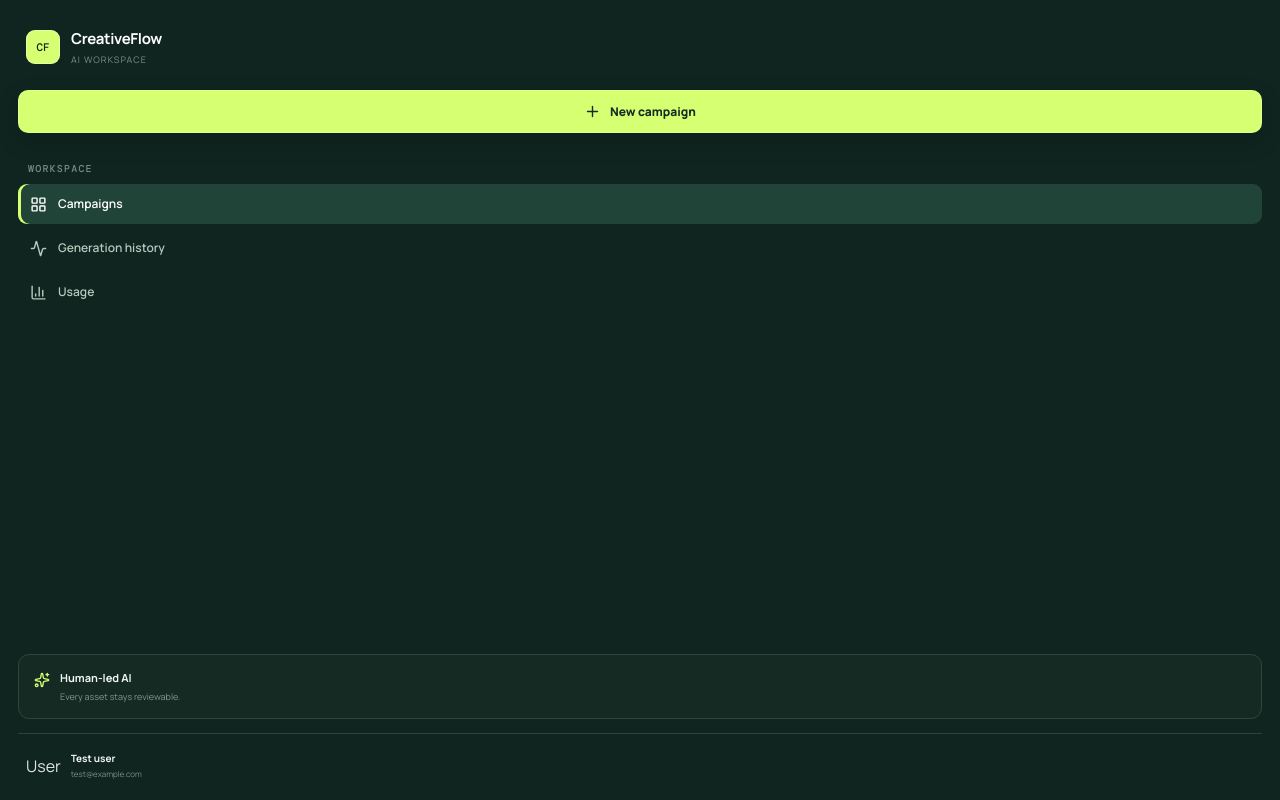
Test case: campaign creation dialog › closes with Cancel when submission is not active
The width and height of the screenshot is (1280, 800).
Click the button "New campaign". click: (640, 112)
box: [18,90,1262,133]
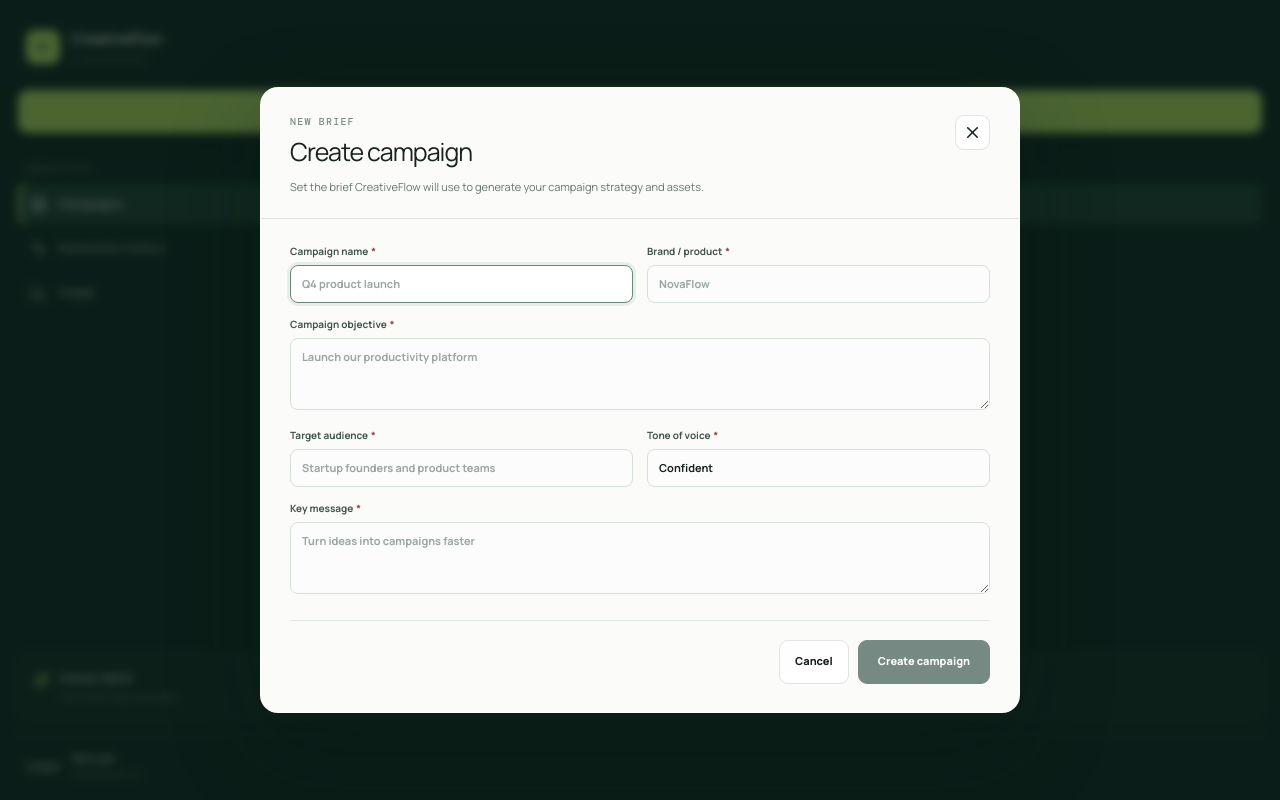
Click the button "Cancel". click: (814, 662)
box: [779,640,849,684]
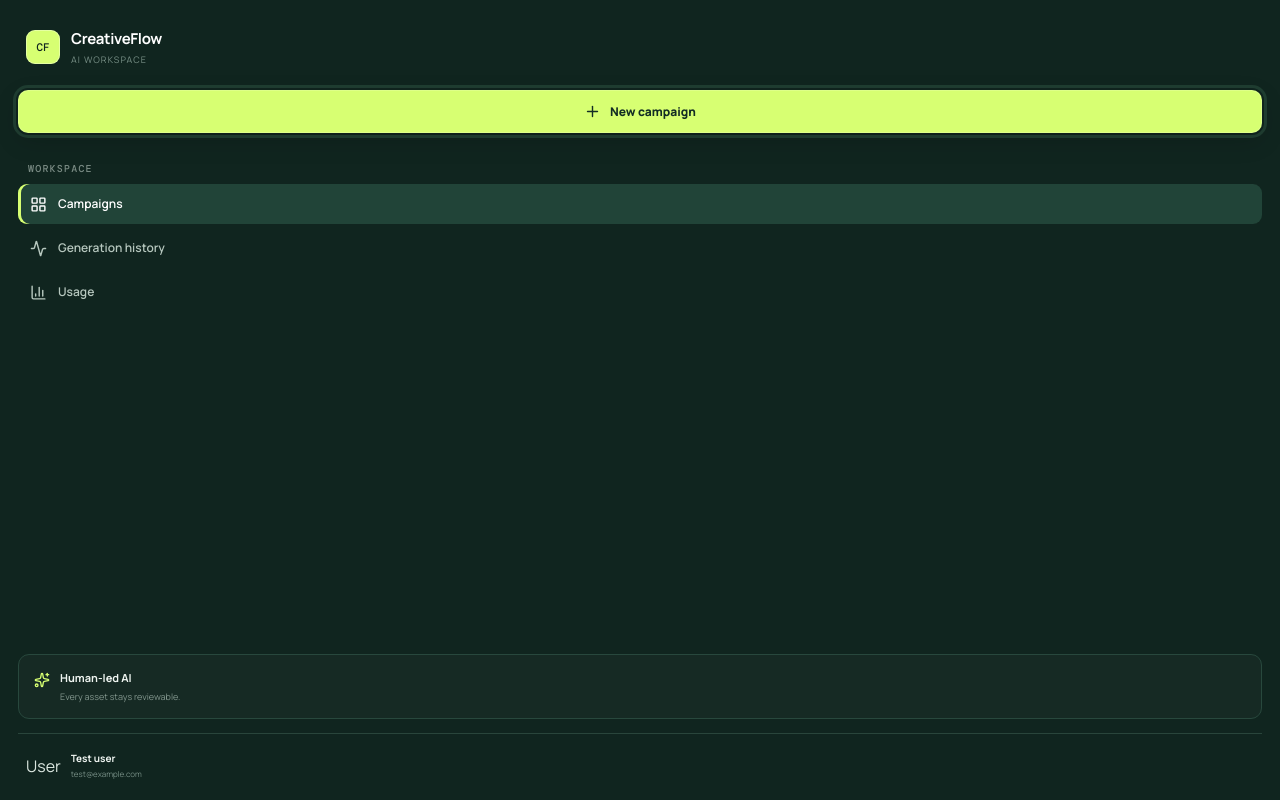
Now the dialog is gone
